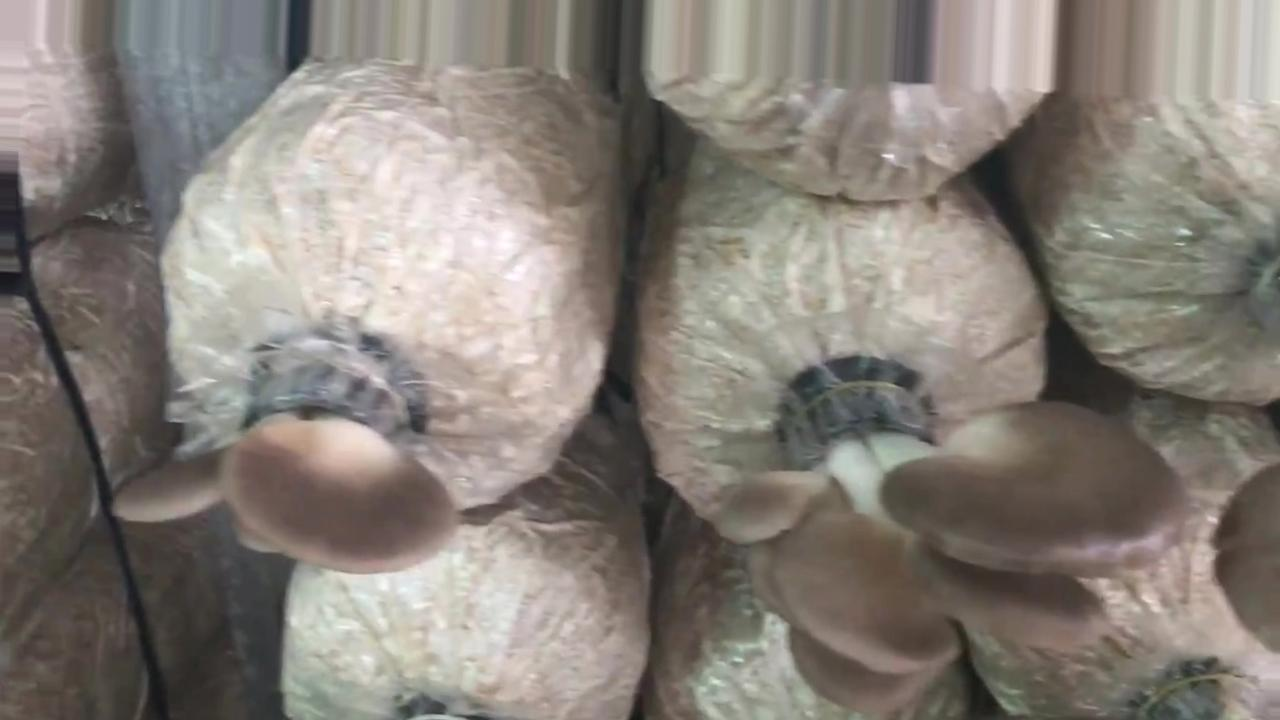nam: (713, 396, 1193, 714), (113, 331, 463, 581)
